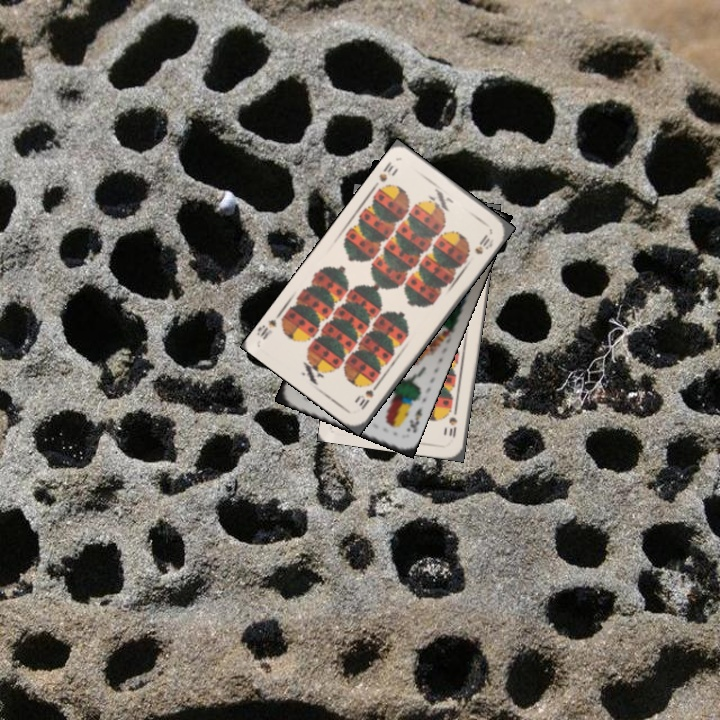EK: (402, 403, 425, 435)
S10: (355, 379, 382, 413), (375, 158, 396, 185), (445, 404, 460, 440)
